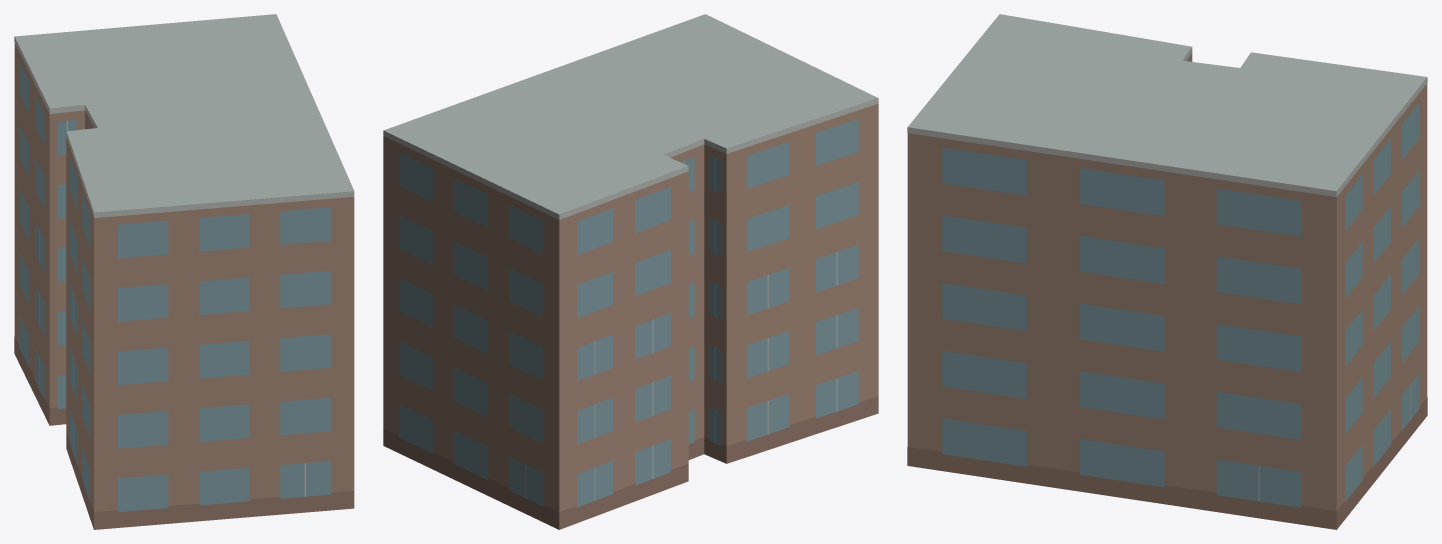
The model's file is survey-upis-32815659.glb.
3 renders of one model, left to right at view 1: azimuth 30°, elevation 25°; view 2: azimuth 150°, elevation 25°; view 3: azimuth 270°, elevation 25°, orthographic. The views are drawn at different scales.
Visible parts, largest first — view 1: survey-upis-32815659.tmp; view 2: survey-upis-32815659.tmp; view 3: survey-upis-32815659.tmp.
Boxes of the visible parts, box(x1,y1,x2,y2) form: survey-upis-32815659.tmp: box(14, 14, 354, 529); survey-upis-32815659.tmp: box(383, 14, 878, 529); survey-upis-32815659.tmp: box(907, 14, 1427, 529).
Bounding box in the file's own units: 15.72 × 14 × 19.49.
